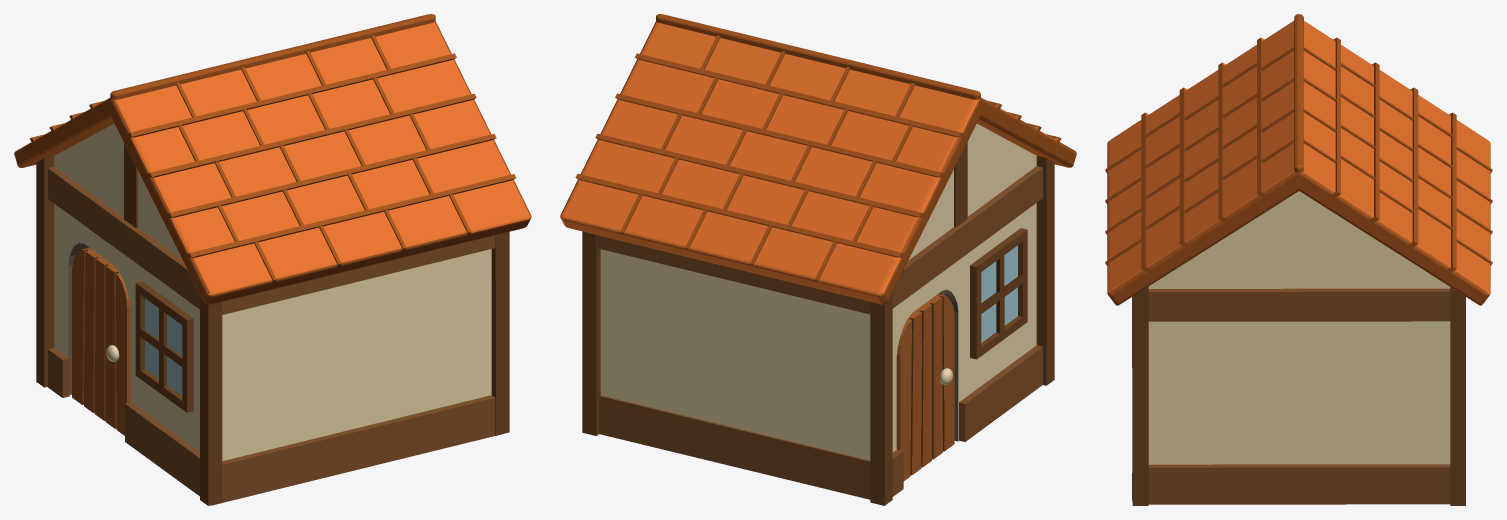
The model's file is house_A.fbx.
The picture shows the model from 3 angles, left to right: view 1: azimuth 30°, elevation 25°; view 2: azimuth 150°, elevation 25°; view 3: azimuth 270°, elevation 25°; orthographic projection. The views are drawn at different scales.
Parts seen in each view (by area): view 1: Roof, Wall, Beam, Door, Wndow; view 2: Roof, Wall, Beam, Door, Wndow; view 3: Roof, Wall, Beam.
Part boxes in pixels (<box>): Roof: <box>14,14,531,304</box>; Wall: <box>54,123,491,460</box>; Beam: <box>36,143,509,505</box>; Door: <box>72,247,130,435</box>; Wndow: <box>135,281,193,412</box>; Roof: <box>560,14,1076,304</box>; Wall: <box>600,123,1036,460</box>; Beam: <box>582,142,1054,505</box>; Door: <box>896,294,954,481</box>; Wndow: <box>970,228,1027,359</box>; Roof: <box>1105,14,1492,305</box>; Wall: <box>1148,191,1450,464</box>; Beam: <box>1132,286,1465,505</box>.
Bounding box in the file's own units: 600 × 626 × 637.
